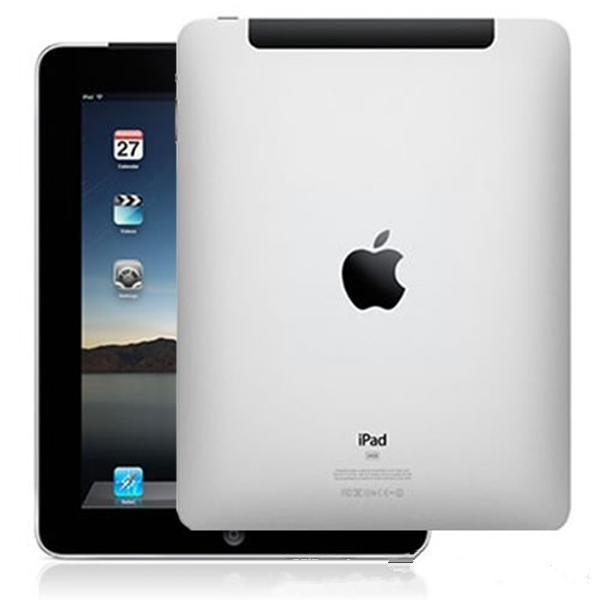apple: (337, 223, 447, 322)
